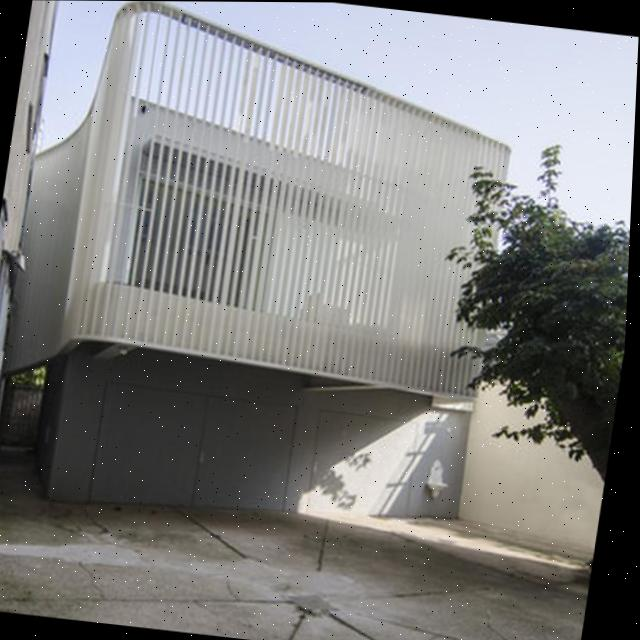building: (0, 0, 534, 547)
